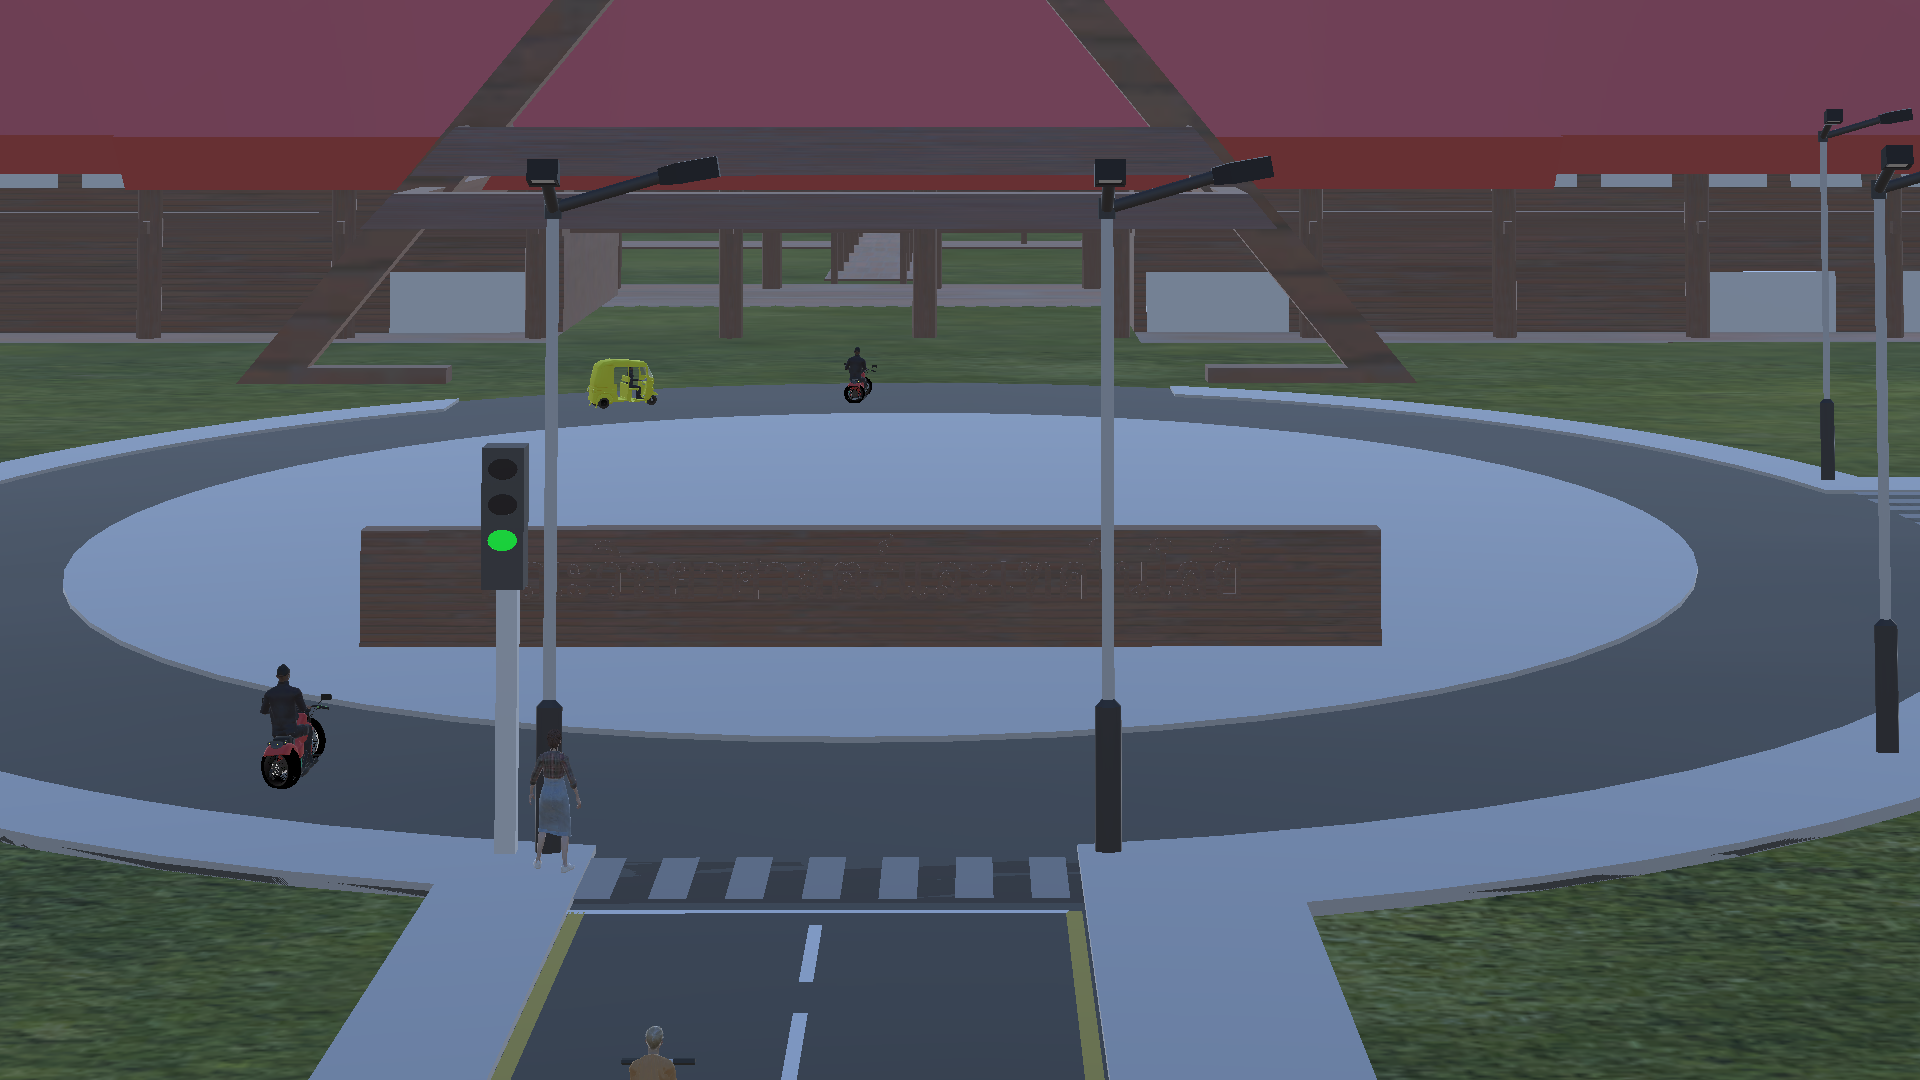pedestrian: (530, 729, 591, 877)
